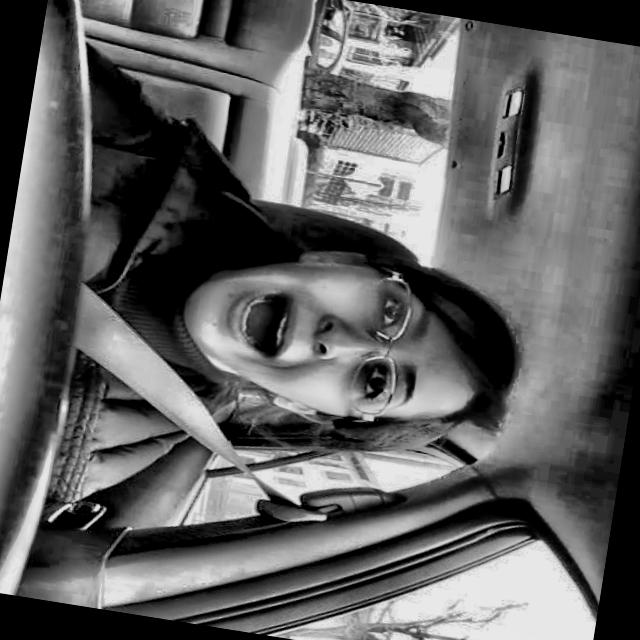open_eyes: (351, 358, 396, 417), (370, 279, 411, 335)
open_mouth: (215, 274, 306, 375)
